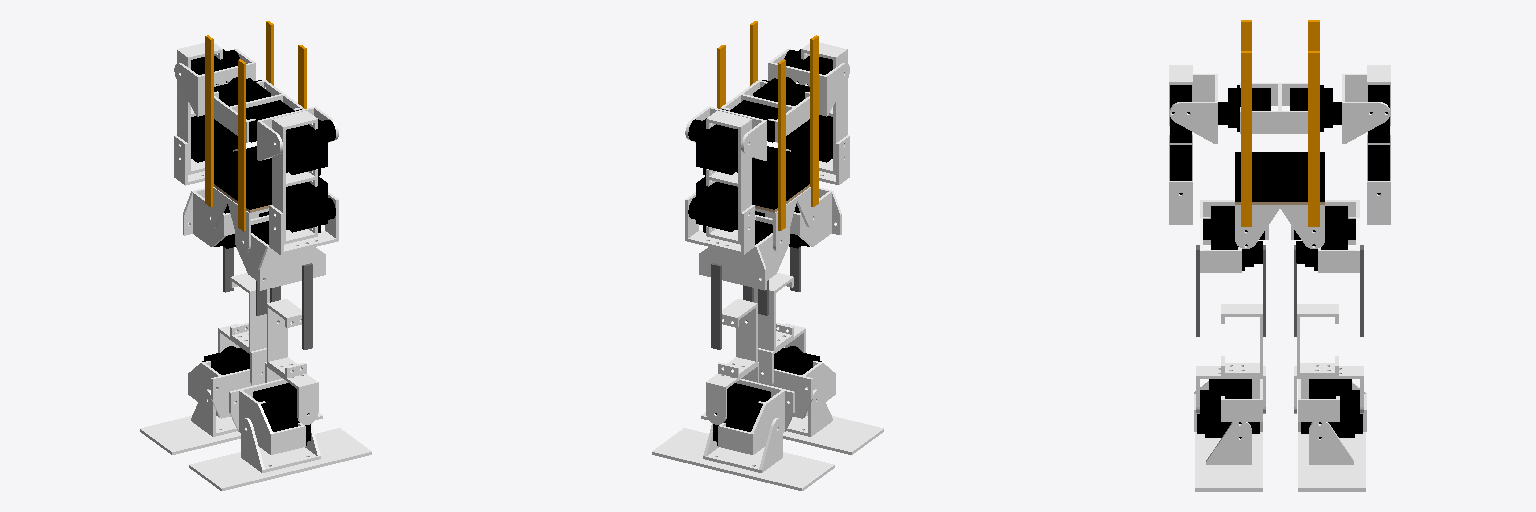
--- Facts derived from the render (not from the file) ---
3 views of the same robot in one strip: view 1: azimuth 30°, elevation 25°; view 2: azimuth 150°, elevation 25°; view 3: azimuth 270°, elevation 25° (orthographic).
Robot: b3w_walker — 24 links, 23 joints (22 revolute, 1 fixed); root link base_link; default pose: all joints at 0.
Visible links, largest first — view 1: body, r_upper_arm, r_foot, r_ankle, l_upper_arm, r_thigh, l_foot, l_ankle, r_knee, l_thigh, l_shoulder, l_knee (+7 smaller); view 2: body, l_upper_arm, l_foot, l_ankle, r_upper_arm, l_thigh, r_foot, r_ankle, l_knee, r_thigh, r_shoulder, r_knee (+7 smaller); view 3: body, l_foot, r_foot, r_ankle, l_ankle, l_thigh, r_thigh, r_upper_arm, l_upper_arm, r_shoulder, l_shoulder, r_knee (+7 smaller).
Link boxes in pixels (x1,y1,x2,y2): body: (205,21,306,251); r_upper_arm: (272,111,335,244); r_foot: (189,418,371,490); r_ankle: (229,379,310,454); l_upper_arm: (177,43,239,174); r_thigh: (235,215,325,290); l_foot: (140,389,322,454); l_ankle: (188,346,261,418); r_knee: (267,299,306,377); l_thigh: (183,188,268,248); l_shoulder: (174,49,255,116); l_knee: (230,273,269,351); body: (717,21,818,251); l_upper_arm: (688,110,751,244); l_foot: (652,418,834,490); l_ankle: (713,379,794,454); r_upper_arm: (784,42,847,174); l_thigh: (699,215,789,290); r_foot: (701,389,883,454); r_ankle: (762,346,835,418); l_knee: (718,299,757,377); r_thigh: (755,187,841,248); r_shoulder: (768,49,849,116); r_knee: (754,273,793,350); body: (1218,20,1341,248); l_foot: (1298,422,1365,491); r_foot: (1195,422,1262,491); r_ankle: (1194,379,1262,438); l_ankle: (1298,379,1366,438); l_thigh: (1291,200,1359,272); r_thigh: (1200,200,1268,272); r_upper_arm: (1169,65,1192,194); l_upper_arm: (1367,65,1390,194); r_shoulder: (1170,74,1217,143); l_shoulder: (1342,74,1389,143); r_knee: (1221,304,1262,375).
Bounding box of the posed robot: 0.16 × 0.196 × 0.4064 m (x, y, z).
Meshes: 36 distinct files referenced, 41 mesh visuals loaded (35 binary STL); not drawn: 2 (reference not matched to a file when rendering).

The robot description file, URDF, robot "b3w_walker":
<?xml version="1.0"?>
<robot name="b3w_walker">
  <gazebo>
    <plugin name="gazebo_ros_control" filename="libgazebo_ros_control.so">
      <robotNamespace>/b3w_walker</robotNamespace>
    </plugin>
    <static>false</static>
  </gazebo>

  <!-- <body/> -->
  <link name="base_link">
  </link>
  <joint name="base_link_fixed" type="fixed">
    <origin xyz="0 0 0" rpy="0 0 0"/>
    <parent link="base_link"/>
    <child link="body"/>
  </joint>
     
  <link name="body">
    <visual name="west">
      <origin xyz="33.5e-3 -54.5e-3 -43e-3" rpy="0 0 1.5707"/>
      <geometry>
      	<mesh filename="package://b3w_walker/models/b3w_walker/stl/body-west-1.STL" scale="1e-3 1e-3 1e-3"/>
      </geometry>
      <material name="brown">
	<color rgba="0.8235 0.7059 0.549 1"/>
      </material>
    </visual>
    <visual name="r_foot_joint">
      <origin xyz="33.5e-3 -54.5e-3 -43e-3" rpy="0 0 1.5707"/>
      <geometry>
      	<mesh filename="package://b3w_walker/models/b3w_walker/stl/body-r_foot_joint-1.STL" scale="1e-3 1e-3 1e-3"/>
      </geometry>
      <material name="white">
	<color rgba="1 1 1 1"/>
      </material>
    </visual>
    <visual name="l_foot_joint">
      <origin xyz="33.5e-3 -54.5e-3 -43e-3" rpy="0 0 1.5707"/>
      <geometry>
      	<mesh filename="package://b3w_walker/models/b3w_walker/stl/body-l_foot_joint-1.STL" scale="1e-3 1e-3 1e-3"/>
      </geometry>
      <material name="white">
	<color rgba="1 1 1 1"/>
      </material>
    </visual>
    <visual name="chest">
      <origin xyz="33.5e-3 -54.5e-3 -43e-3" rpy="0 0 1.5707"/>
      <geometry>
      	<mesh filename="package://b3w_walker/models/b3w_walker/stl/body-chest-1.STL" scale="1e-3 1e-3 1e-3"/>
      </geometry>
      <material name="white">
	<color rgba="1 1 1 1"/>
      </material>
    </visual>
    <visual name="type2-1">
      <origin xyz="33.5e-3 -54.5e-3 -43e-3" rpy="0 0 1.5707"/>
      <geometry>
      	<mesh filename="package://b3w_walker/models/b3w_walker/stl/body-type2-1.STL" scale="1e-3 1e-3 1e-3"/>
      </geometry>
      <material name="black">
	<color rgba="0 0 0 1"/>
      </material>
    </visual>
    <visual name="type2-2">
      <origin xyz="33.5e-3 -54.5e-3 -43e-3" rpy="0 0 1.5707"/>
      <geometry>
      	<mesh filename="package://b3w_walker/models/b3w_walker/stl/body-type2-2.STL" scale="1e-3 1e-3 1e-3"/>
      </geometry>
      <material name="black">
	<color rgba="0 0 0 1"/>
      </material>
    </visual>
    <visual name="pi">
      <origin xyz="33.5e-3 -54.5e-3 -43e-3" rpy="0 0 1.5707"/>
      <geometry>
      	<mesh filename="package://b3w_walker/models/b3w_walker/stl/body-pi-1.STL" scale="1e-3 1e-3 1e-3"/>
      </geometry>
      <material name="black">
	<color rgba="0 0 0 1"/>
      </material>
    </visual>
    <visual name="pole-1">
      <origin xyz="33.5e-3 -54.5e-3 -43e-3" rpy="0 0 1.5707"/>
      <geometry>
      	<mesh filename="package://b3w_walker/models/b3w_walker/stl/body-pole-1.STL" scale="1e-3 1e-3 1e-3"/>
      </geometry>
      <material name="orange">
	<color rgba="1 0.647 0 1"/>
      </material>
    </visual>
    <visual name="pole-2">
      <origin xyz="33.5e-3 -54.5e-3 -43e-3" rpy="0 0 1.5707"/>
      <geometry>
      	<mesh filename="package://b3w_walker/models/b3w_walker/stl/body-pole-2.STL" scale="1e-3 1e-3 1e-3"/>
      </geometry>
      <material name="orange">
	<color rgba="1 0.647 0 1"/>
      </material>
    </visual>
    <visual name="pole-3">
      <origin xyz="33.5e-3 -54.5e-3 -43e-3" rpy="0 0 1.5707"/>
      <geometry>
      	<mesh filename="package://b3w_walker/models/b3w_walker/stl/body-pole-3.STL" scale="1e-3 1e-3 1e-3"/>
      </geometry>
      <material name="orange">
	<color rgba="1 0.647 0 1"/>
      </material>
    </visual>
    <visual name="pole-4">
      <origin xyz="33.5e-3 -54.5e-3 -43e-3" rpy="0 0 1.5707"/>
      <geometry>

      	<mesh filename="package://b3w_walker/models/b3w_walker/stl/body-pole-4.STL" scale="1e-3 1e-3 1e-3"/>
      </geometry>
      <material name="orange">
	<color rgba="1 0.647 0 1"/>
      </material>
    </visual>
    <collision name="collision">
      <origin xyz="0 0 72e-3" rpy="0 0 0"/>
      <geometry>
	<box size="68e-3 80e-3 150e-3"/>
      </geometry>
    </collision>
    <inertial>
      <origin xyz="0.23e-3 0 38.29e-3" rpy="0 0 1.5707"/>
      <mass value="249.61e-3"/>
      <inertia ixx="469536.22e-9" iyy="555552.88e-9" izz="269099.12e-9" ixy="0" iyz="-2538.43e-9" ixz="0"/>
    </inertial>
  </link>
  <gazebo reference="body">
      <selfCollide>true</selfCollide>
  </gazebo>


  
  <!-- <right arm/> -->
  <joint name="r_shoulder_pitch" type="revolute">
    <origin xyz="10.5e-3 -54.5e-3 80e-3" rpy="0 0 0"/>
    <parent link="body"/>
    <child link="r_shoulder"/>
    <axis xyz="0 1 0"/>
    <limit effort="0.4" velocity="1.5707" lower="-1.5707" upper="1.5707" />
  </joint>
  <transmission name="tran_r_shoulder_pitch">
    <type>transmission_interface/SimpleTransmission</type>
    <joint name="r_shoulder_pitch">
      <hardwareInterface>hardware_interface/PositionJointInterface</hardwareInterface>
    </joint>
    <actuator name="motor_r_shoulder_pitch">
      <hardwareInterface>hardware_interface/PositionJointInterface</hardwareInterface>
      <mechanicalReduction>1</mechanicalReduction>
    </actuator>
  </transmission>

 <link name="r_shoulder">
    <visual name="r_shoulder">
      <origin xyz="21e-3 -43e-3 -20e-3" rpy="0 -1.5707 0"/>
      <geometry>
      	<mesh filename="package://b3w_walker/models/b3w_walker/stl/r_shoulder.STL" scale="1e-3 1e-3 1e-3"/>
      </geometry>
      <material name="white">
	<color rgba="1 1 1 1"/>
      </material>
    </visual>
    <collision name="collision">
      <origin xyz="-10e-3 -21.5e-3 0" rpy="0 0 0"/>
      <geometry>
	<box size="62e-3 43e-3 40e-3"/>
      </geometry>
    </collision>
    <inertial>
      <origin xyz="-10.06e-3 -9.9e-3 2.3e-3" rpy="0 -1.5707 0"/>
      <mass value="13.98e-3"/>
      <inertia ixx="10014.76e-9" iyy="9800.30e-9" izz="3544.51e-9" ixy="-523.71e-9" iyz="-18.93e-9" ixz="6.31e-9"/>
    </inertial>
  </link>
  <gazebo reference="r_shoulder">
      <selfCollide>true</selfCollide>
  </gazebo>

  <joint name="r_shoulder_roll" type="revolute">
    <origin xyz="18e-3 -33e-3 10e-3" rpy="0 0 0"/>
    <parent link="r_shoulder"/>
    <child link="r_upper_arm"/>
    <axis xyz="1 0 0"/>
    <limit effort="0.4" velocity="1.5707" lower="-1.5707" upper="0.3927" />
  </joint>
  <transmission name="tran_r_shoulder_roll">
    <type>transmission_interface/SimpleTransmission</type>
    <joint name="r_shoulder_roll">
      <hardwareInterface>hardware_interface/PositionJointInterface</hardwareInterface>
    </joint>
    <actuator name="motor_r_shoulder_roll">
      <hardwareInterface>hardware_interface/PositionJointInterface</hardwareInterface>
      <mechanicalReduction>1</mechanicalReduction>
    </actuator>
  </transmission>

  <link name="r_upper_arm">
    <visual name="upper_arm">
      <origin xyz="0 -10.5e-3 20e-3" rpy="0 1.5707 1.5707"/>
      <geometry>
      	<mesh filename="package://b3w_walker/models/b3w_walker/stl/arm-upper_arm-1.STL" scale="1e-3 1e-3 1e-3"/>
      </geometry>
      <material name="white">
	<color rgba="1 1 1 1"/>
      </material>
    </visual>
    <visual name="type2-1">
      <origin xyz="0 -10.5e-3 20e-3" rpy="0 1.5707 1.5707"/>
      <geometry>
      	<mesh filename="package://b3w_walker/models/b3w_walker/stl/arm-type2-1.STL" scale="1e-3 1e-3 1e-3"/>
      </geometry>
      <material name="black">
	<color rgba="0 0 0 1"/>
      </material>
    </visual>
    <visual name="type2-2">
      <origin xyz="0 -10.5e-3 20e-3" rpy="0 1.5707 1.5707"/>
      <geometry>
      	<mesh filename="package://b3w_walker/models/b3w_walker/stl/arm-type2-2.STL" scale="1e-3 1e-3 1e-3"/>
      </geometry>
      <material name="black">
	<color rgba="0 0 0 1"/>
      </material>
    </visual>
    <collision name="collision">
      <origin xyz="-37.5e-3 0 -39.31e-3" rpy="0 0 0"/>
      <geometry>
	<box size="37e-3 21e-3 119e-3"/>
      </geometry>
    </collision>
    <inertial>
      <origin xyz="-28.23e-3 0 -39.5e-3" rpy="0 1.5707 1.5707"/>
      <mass value="91.78e-3"/>
      <inertia ixx="21303.42e-9" iyy="107781.77e-9" izz="122945.47e-9" ixy="0" iyz="0" ixz="0"/>
    </inertial>
  </link>
  <gazebo reference="r_upper_arm">
      <selfCollide>true</selfCollide>
  </gazebo>

  <joint name="r_elbow_roll" type="revolute">
    <origin xyz="0 0 -79e-3" rpy="0 0 0"/>
    <parent link="r_upper_arm"/>
    <child link="r_lower_arm"/>
    <axis xyz="-1 0 0"/>
    <limit effort="0.4" velocity="1.5707" lower="-1.5707" upper="1.5707" />
  </joint>
  <transmission name="tran_r_elbow_roll">
    <type>transmission_interface/SimpleTransmission</type>
    <joint name="r_elbow_roll">
      <hardwareInterface>hardware_interface/PositionJointInterface</hardwareInterface>
    </joint>
    <actuator name="motor_r_elbow_roll">
      <hardwareInterface>hardware_interface/PositionJointInterface</hardwareInterface>
      <mechanicalReduction>1</mechanicalReduction>
    </actuator>
  </transmission>

  <link name="r_lower_arm">
    <visual name="box">
      <origin xyz="3e-3 -10.5e-3 -30e-3" rpy="1.5707 0 3.1415"/>
      <geometry>
	<mesh filename="package://b3w_walker/models/b3w_walker/stl/hinge.STL" scale="1e-3 1e-3 1e-3"/>
      </geometry>
      <material name="white">
	<color rgba="1 1 1 1"/>
      </material>
    </visual>
    <collision name="collision">
      <origin xyz="-28e-3 0 -9e-3" rpy="0 0 0"/>
      <geometry>
	<box size="62e-3 21e-3 42e-3"/>
      </geometry>
    </collision>
    <inertial>
      <origin xyz="-27.91e-3 0 -16.74e-3" rpy="1.5707 0 3.1415"/>
      <mass value="8.75e-3"/>
      <inertia ixx="1894.18e-9" iyy="5884.31e-9" izz="7125.94e-9" ixy="-13.72e-9" iyz="0" ixz="0"/>
    </inertial>
  </link>
  <gazebo reference="r_lower_arm">
      <selfCollide>true</selfCollide>
  </gazebo>

  <joint name="r_arm_fixed" type="revolute">
    <origin xyz="-28e-3 0 -30e-3" rpy="0 0 0"/>
    <parent link="r_lower_arm"/>
    <child link="r_arm_endcoords"/>
    <axis xyz="0 1 0"/>
    <limit effort="0" velocity="0" lower="0" upper="0.01" />
  </joint>
 
  <link name="r_arm_endcoords">
  </link>


  


  <!-- <left arm/> -->
  <joint name="l_shoulder_pitch" type="revolute">
    <origin xyz="10.5e-3 54.5e-3 80e-3" rpy="0 0 0"/>
    <parent link="body"/>
    <child link="l_shoulder"/>
    <axis xyz="0 -1 0"/>
    <limit effort="0.4" velocity="1.5707" lower="-1.5707" upper="1.5707" />
  </joint>
  <transmission name="tran_l_shoulder_pitch">
    <type>transmission_interface/SimpleTransmission</type>
    <joint name="l_shoulder_pitch">
      <hardwareInterface>hardware_interface/PositionJointInterface</hardwareInterface>
    </joint>
    <actuator name="motor_l_shoulder_pitch">
      <hardwareInterface>hardware_interface/PositionJointInterface</hardwareInterface>
      <mechanicalReduction>1</mechanicalReduction>
    </actuator>
  </transmission>

  <link name="l_shoulder">
    <visual name="l_shoulder">
      <origin xyz="21e-3 0 -20e-3" rpy="0 -1.5707 0"/>
      <geometry>
      	<mesh filename="package://b3w_walker/models/b3w_walker/stl/l_shoulder.STL" scale="1e-3 1e-3 1e-3"/>
      </geometry>
      <material name="white">
	<color rgba="1 1 1 1"/>
      </material>
    </visual>
    <collision name="collision">
      <origin xyz="-10e-3 21.5e-3 0" rpy="0 0 0"/>
      <geometry>
	<box size="62e-3 43e-3 40e-3"/>
      </geometry>
    </collision>
    <inertial>
      <origin xyz="-10.06e-3 9.9e-3 2.3e-3" rpy="0 -1.5707 0"/>
      <mass value="13.98e-3"/>
      <inertia ixx="10014.76e-9" iyy="9800.30e-9" izz="3544.51e-9" ixy="523.71e-9" iyz="18.93e-9" ixz="6.31e-9"/>
    </inertial>
  </link>
  <gazebo reference="l_shoulder">
      <selfCollide>true</selfCollide>
  </gazebo>

  <joint name="l_shoulder_roll" type="revolute">
    <origin xyz="18e-3 33e-3 10e-3" rpy="0 0 0"/>
    <parent link="l_shoulder"/>
    <child link="l_upper_arm"/>
    <axis xyz="1 0 0"/>
    <limit effort="0.4" velocity="1.5707" lower="-0.3927" upper="1.5707" />
  </joint>
  <transmission name="tran_l_shoulder_roll">
    <type>transmission_interface/SimpleTransmission</type>
    <joint name="l_shoulder_roll">
      <hardwareInterface>hardware_interface/PositionJointInterface</hardwareInterface>
    </joint>
    <actuator name="motor_l_shoulder_roll">
      <hardwareInterface>hardware_interface/PositionJointInterface</hardwareInterface>
      <mechanicalReduction>1</mechanicalReduction>
    </actuator>
  </transmission>

  <link name="l_upper_arm">
    <visual name="upper_arm">
      <origin xyz="0 -10.5e-3 20e-3" rpy="0 1.5707 1.5707"/>
      <geometry>
      	<mesh filename="package://b3w_walker/models/b3w_walker/stl/arm-upper_arm-1.STL" scale="1e-3 1e-3 1e-3"/>
      </geometry>
      <material name="white">
	<color rgba="1 1 1 1"/>
      </material>
    </visual>
    <visual name="type2-1">
      <origin xyz="0 -10.5e-3 20e-3" rpy="0 1.5707 1.5707"/>
      <geometry>
      	<mesh filename="package://b3w_walker/models/b3w_walker/stl/arm-type2-1.STL" scale="1e-3 1e-3 1e-3"/>
      </geometry>
      <material name="black">
	<color rgba="0 0 0 1"/>
      </material>
    </visual>
    <visual name="type2-2">
      <origin xyz="0 -10.5e-3 20e-3" rpy="0 1.5707 1.5707"/>
      <geometry>
      	<mesh filename="package://b3w_walker/models/b3w_walker/stl/arm-type2-2.STL" scale="1e-3 1e-3 1e-3"/>
      </geometry>
      <material name="black">
	<color rgba="0 0 0 1"/>
      </material>
    </visual>
    <collision name="collision">
      <origin xyz="-37.5e-3 0 -39.31e-3" rpy="0 0 0"/>
      <geometry>
	<box size="37e-3 21e-3 119e-3"/>
      </geometry>
    </collision>
    <inertial>
      <origin xyz="-28.23e-3 0 -39.5e-3" rpy="0 1.5707 1.5707"/>
      <mass value="91.78e-3"/>
      <inertia ixx="21303.42e-9" iyy="107781.77e-9" izz="122945.47e-9" ixy="0" iyz="0" ixz="0"/>
    </inertial>
  </link>
  <gazebo reference="l_upper_arm">
      <selfCollide>true</selfCollide>
  </gazebo>
  
  <joint name="l_elbow_roll" type="revolute">
    <origin xyz="0 0 -79e-3" rpy="0 0 0"/>
    <parent link="l_upper_arm"/>
    <child link="l_lower_arm"/>
    <axis xyz="-1 0 0"/>
    <limit effort="0.4" velocity="1.5707" lower="-1.5707" upper="1.5707" />
  </joint>
  <transmission name="tran_l_elbow_roll">
    <type>transmission_interface/SimpleTransmission</type>
    <joint name="l_elbow_roll">
      <hardwareInterface>hardware_interface/PositionJointInterface</hardwareInterface>
    </joint>
    <actuator name="motor_l_elbow_roll">
      <hardwareInterface>hardware_interface/PositionJointInterface</hardwareInterface>
      <mechanicalReduction>1</mechanicalReduction>
    </actuator>
  </transmission>

  <link name="l_lower_arm">
    <visual name="box">
      <origin xyz="3e-3 -10.5e-3 -30e-3" rpy="1.5707 0 3.1415"/>
      <geometry>
	<mesh filename="package://b3w_walker/models/b3w_walker/stl/hinge.STL" scale="1e-3 1e-3 1e-3"/>
      </geometry>
      <material name="white">
	<color rgba="1 1 1 1"/>
      </material>
    </visual>
    <collision name="collision">
      <origin xyz="-28e-3 0 -9e-3" rpy="0 0 0"/>
      <geometry>
	<box size="62e-3 21e-3 42e-3"/>
      </geometry>
    </collision>
    <inertial>
      <origin xyz="-27.91e-3 0 -16.74e-3" rpy="1.5707 0 3.1415"/>
      <mass value="8.75e-3"/>
      <inertia ixx="1894.18e-9" iyy="5884.31e-9" izz="7125.94e-9" ixy="-13.72e-9" iyz="0" ixz="0"/>
    </inertial>
  </link>
  <gazebo reference="l_lower_arm">
      <selfCollide>true</selfCollide>
  </gazebo>

  <joint name="l_arm_fixed" type="revolute">
    <origin xyz="-28e-3 0 -30e-3" rpy="0 0 0"/>
    <parent link="l_lower_arm"/>
    <child link="l_arm_endcoords"/>
    <axis xyz="0 1 0"/>
    <limit effort="0" velocity="0" lower="0" upper="0.01" />
  </joint>
 
  <link name="l_arm_endcoords">
  </link>
  






  <!-- <right leg/> -->
  <joint name="r_footjoint_roll" type="revolute">
    <origin xyz="28e-3 -30e-3 -33e-3" rpy="0 0 0"/>
    <parent link="base_link"/>
    <child link="r_thigh"/>
    <axis xyz="1 0 0"/>
    <limit effort="0.4" velocity="1.5707" lower="-0.7854" upper="0.7854" />
  </joint>
  <transmission name="tran_r_footjoint_roll">
    <type>transmission_interface/SimpleTransmission</type>
    <joint name="r_footjoint_roll">
      <hardwareInterface>hardware_interface/PositionJointInterface</hardwareInterface>
    </joint>
    <actuator name="motor_r_footjoint_roll">
      <hardwareInterface>hardware_interface/PositionJointInterface</hardwareInterface>
      <mechanicalReduction>1</mechanicalReduction>
    </actuator>
  </transmission>

  <link name="r_thigh">
    <visual name="r_thigh">
      <origin xyz="5e-3 20e-3 10.5e-3" rpy="0 3.1415 1.5707"/>
      <geometry>
      	<mesh filename="package://b3w_walker/models/b3w_walker/stl/r_thigh.STL" scale="1e-3 1e-3 1e-3"/>
      </geometry>
      <material name="white">
  	<color rgba="1 1 1 1"/>
      </material>
    </visual>
    <visual name="type2-1">
      <origin xyz="5e-3 20e-3 10.5e-3" rpy="0 3.1415 1.5707"/>
      <geometry>
      	<mesh filename="package://b3w_walker/models/b3w_walker/stl/r_thigh-type2-1.STL" scale="1e-3 1e-3 1e-3"/>
      </geometry>
      <material name="black">
  	<color rgba="0 0 0 1"/>
      </material>
    </visual>
    <visual name="type2-2">
      <origin xyz="5e-3 20e-3 10.5e-3" rpy="0 3.1415 1.5707"/>
      <geometry>
      	<mesh filename="package://b3w_walker/models/b3w_walker/stl/r_thigh-type2-2.STL" scale="1e-3 1e-3 1e-3"/>
      </geometry>
      <material name="black">
  	<color rgba="0 0 0 1"/>
      </material>
    </visual>
    <collision name="collision">
      <origin xyz="-30e-3 -10.5e-3 -10.5e-3" rpy="0 0 0"/>
      <geometry>
  	<box size="70e-3 61e-3 42e-3"/>
      </geometry>
    </collision>
    <inertial>
      <origin xyz="-27.04e-3 -11.99e-3 -10.54e-3" rpy="0 3.1415 1.5707"/>
      <mass value="95.76e-3"/>
      <inertia ixx="35785.97e-9" iyy="35507.30e-9" izz="44004.92e-9" ixy="1232.13e-9" iyz="-1392.7e-9" ixz="1621.84e-9"/>
    </inertial>
  </link>
  <gazebo reference="r_thigh">
      <selfCollide>true</selfCollide>
  </gazebo>

  <joint name="r_footjoint_pitch" type="revolute">
    <origin xyz="-15e-3 15e-3 -21e-3" rpy="0 0 0"/>
    <parent link="r_thigh"/>
    <child link="r_uf_bone"/>
    <axis xyz="0 -1 0"/>
    <limit effort="0.4" velocity="1.5707" lower="-1.5707" upper="1.5707" />
  </joint>
  <transmission name="tran_r_footjoint_pitch">
    <type>transmission_interface/SimpleTransmission</type>
    <joint name="r_footjoint_pitch">
      <hardwareInterface>hardware_interface/PositionJointInterface</hardwareInterface>
    </joint>
    <actuator name="motor_r_footjoint_pitch">
      <hardwareInterface>hardware_interface/PositionJointInterface</hardwareInterface>
      <mechanicalReduction>1</mechanicalReduction>
    </actuator>
  </transmission>

  <link name="r_uf_bone">
    <visual name="l_bone">
      <origin xyz="0 1.5e-3 -37.5e-3" rpy="0 0 0"/>
      <geometry>
      	<box size="10e-3 3e-3 85e-3"/>
      </geometry>
      <material name="grey">
  	<color rgba="0.5 0.5 0.5 1"/>
      </material>
    </visual>
    <visual name="r_bone">
      <origin xyz="0 -57.5e-3 -37.5e-3" rpy="0 0 0"/>
      <geometry>
      	<box size="10e-3 3e-3 85e-3"/>
      </geometry>
      <material name="grey">
  	<color rgba="0.5 0.5 0.5 1"/>
      </material>
    </visual>
    <collision name="collision">
      <origin xyz="0 -28e-3 -37.5e-3" rpy="0 0 0"/>
      <geometry>
      	<box size="10e-3 62e-3 85e-3"/>
      </geometry>
    </collision>
    <inertial>
      <origin xyz="0 -28e-3 -37.5e-3" rpy="0 0 0"/>
      <mass value="5.2e-3"/>
      <inertia ixx="7662.98e-9" iyy="3125.39e-9" izz="4574.29e-9" ixy="0" iyz="0" ixz="0"/>
    </inertial>
  </link>
  <gazebo reference="r_uf_bone">
      <selfCollide>true</selfCollide>
  </gazebo>
  
  <joint name="r_knee_pitch" type="revolute">
    <origin xyz="0 -56e-3 -75e-3" rpy="0 0 0"/>
    <parent link="r_uf_bone"/>
    <child link="r_knee"/>
    <axis xyz="0 -1 0"/>
    <limit effort="0.4" velocity="1.5707" lower="-1.5707" upper="1.5707" />
  </joint>
  <transmission name="tran_r_knee_pitch">
    <type>transmission_interface/SimpleTransmission</type>
    <joint name="r_knee_pitch">
      <hardwareInterface>hardware_interface/PositionJointInterface</hardwareInterface>
    </joint>
    <actuator name="motor_r_knee_pitch">
      <hardwareInterface>hardware_interface/PositionJointInterface</hardwareInterface>
      <mechanicalReduction>1</mechanicalReduction>
    </actuator>
  </transmission>

  <link name="r_knee">
    <visual name="r_knee">
      <origin xyz="10.5e-3 56e-3 20e-3" rpy="0 1.5707 3.1415"/>
      <geometry>
      	<mesh filename="package://b3w_walker/models/b3w_walker/stl/servo-servo-1.STL" scale="1e-3 1e-3 1e-3"/>
      </geometry>
      <material name="white">
  	<color rgba="1 1 1 1"/>
      </material>
    </visual>
    <visual name="type2">
      <origin xyz="10.5e-3 56e-3 20e-3" rpy="0 1.5707 3.1415"/>
      <geometry>
      	<mesh filename="package://b3w_walker/models/b3w_walker/stl/servo-type2-1.STL" scale="1e-3 1e-3 1e-3"/>
      </geometry>
      <material name="black">
  	<color rgba="0 0 0 1"/>
      </material>
    </visual>
    <collision name="collision">
      <origin xyz="0 28e-3 -10.5e-3" rpy="0 0 0"/>
      <geometry>
  	<box size="21e-3 56e-3 61e-3"/>
      </geometry>
    </collision>
    <inertial>
      <origin xyz="0 28.25e-3 -9.82e-3" rpy="0 1.5707 3.1415"/>
      <mass value="46.9e-3"/>
      <inertia ixx="10909.33e-9" iyy="12516.16e-9" izz="20276.66e-9" ixy="-702.81e-9" iyz="0" ixz="0"/>
    </inertial>
  </link>
  <gazebo reference="r_knee">
      <selfCollide>true</selfCollide>
  </gazebo>

  <joint name="r_knee_fixed" type="revolute">
    <origin xyz="0 33e-3 -41e-3" rpy="0 0 0"/>
    <parent link="r_knee"/>
    <child link="r_knee_hinge"/>
    <axis xyz="0 1 0"/>
    <limit effort="0" velocity="0" lower="0" upper="0.01" />
  </joint>

  <link name="r_knee_hinge">
    <visual name="hinge">
      <origin xyz="10.5e-3 -36e-3 0" rpy="-1.5707 0 1.5707"/>
      <geometry>
	<mesh filename="package://b3w_walker/models/b3w_walker/stl/hinge_c.STL" scale="1e-3 1e-3 1e-3"/>
      </geometry>
      <material name="white">
  	<color rgba="1 1 1 1"/>
      </material>
    </visual>
    <collision name="collision">
      <origin xyz="0 -5e-3 -20.25e-3" rpy="0 0 0"/>
      <geometry>
      	<box size="21e-3 62e-3 40.5e-3"/>
      </geometry>
    </collision>
    <inertial>
      <origin xyz="0 -5.09e-3 -11.74e-3" rpy="-1.5707 0 1.5707"/>
      <mass value="8.26e-3"/>
      <inertia ixx="1515.9e-9" iyy="5436.69e-9" izz="6354.97e-9" ixy="-14.97e-9" iyz="0" ixz="0"/>
    </inertial>
  </link>
  <gazebo reference="r_knee_hinge">
      <selfCollide>true</selfCollide>
  </gazebo>

  <joint name="r_ankle_pitch" type="revolute">
    <origin xyz="0 -33e-3 -30e-3" rpy="0 0 0"/>
    <parent link="r_knee_hinge"/>
    <child link="r_ankle"/>
    <axis xyz="0 -1 0"/>
    <limit effort="0.4" velocity="1.5707" lower="-1.5707" upper="1.5707" />
  </joint>
  <transmission name="tran_r_ankle_pitch">
    <type>transmission_interface/SimpleTransmission</type>
    <joint name="r_ankle_pitch">
      <hardwareInterface>hardware_interface/PositionJointInterface</hardwareInterface>
    </joint>
    <actuator name="motor_r_ankle_pitch">
      <hardwareInterface>hardware_interface/PositionJointInterface</hardwareInterface>
      <mechanicalReduction>1</mechanicalReduction>
    </actuator>
  </transmission>

  <link name="r_ankle">
    <visual name="r_ankle">
      <origin xyz="20e-3 -5e-3 -31.5e-3" rpy="0 0 1.5707"/>
      <geometry>
      	<mesh filename="package://b3w_walker/models/b3w_walker/stl/r_ankle.STL" scale="1e-3 1e-3 1e-3"/>
      </geometry>
      <material name="white">
  	<color rgba="1 1 1 1"/>
      </material>
    </visual>
    <visual name="type2-1">
      <origin xyz="20e-3 -5e-3 -31.5e-3" rpy="0 0 1.5707"/>
      <geometry>
      	<mesh filename="package://b3w_walker/models/b3w_walker/stl/r_ankle_type2-1.STL" scale="1e-3 1e-3 1e-3"/>
      </geometry>
      <material name="black">
  	<color rgba="0 0 0 1"/>
      </material>
    </visual>
    <visual name="type2-2">
      <origin xyz="20e-3 -5e-3 -31.5e-3" rpy="0 0 1.5707"/>
      <geometry>
      	<mesh filename="package://b3w_walker/models/b3w_walker/stl/r_ankle_type2-2.STL" scale="1e-3 1e-3 1e-3"/>
      </geometry>
      <material name="black">
  	<color rgba="0 0 0 1"/>
      </material>
    </visual>
    <collision name="collision">
      <origin xyz="-15e-3 30e-3 -10.5e-3" rpy="0 0 0"/>
      <geometry>
  	<box size="70e-3 61e-3 42e-3"/>
      </geometry>
    </collision>
    <inertial>
      <origin xyz="-12.08e-3 27.62e-3 -10.86e-3" rpy="0 0 1.5707"/>
      <mass value="96.15e-3"/>
      <inertia ixx="36875.99e-9" iyy="36382.18e-9" izz="44211.91e-9" ixy="-130.16e-9" iyz="-1342.61e-9" ixz="1097.22e-9"/>
    </inertial>
  </link>
  <gazebo reference="r_ankle">
      <selfCollide>true</selfCollide>
  </gazebo>
  
  <joint name="r_ankle_roll" type="revolute">
    <origin xyz="15e-3 36e-3 -20e-3" rpy="0 0 0"/>
    <parent link="r_ankle"/>
    <child link="r_foot"/>
    <axis xyz="-1 0 0"/>
    <limit effort="0.4" velocity="1.5707" lower="-0.3927" upper="0.3927" />
  </joint>
  <transmission name="tran_r_ankle_roll">
    <type>transmission_interface/SimpleTransmission</type>
    <joint name="r_ankle_roll">
      <hardwareInterface>hardware_interface/PositionJointInterface</hardwareInterface>
    </joint>
    <actuator name="motor_r_ankle_roll">
      <hardwareInterface>hardware_interface/PositionJointInterface</hardwareInterface>
      <mechanicalReduction>1</mechanicalReduction>
    </actuator>
  </transmission>

  <link name="r_foot">
    <visual name="r_foot">
      <origin xyz="-108e-3 -40e-3 -36e-3" rpy="0 0 0"/>
      <geometry>
      	<mesh filename="package://b3w_walker/models/b3w_walker/stl/r_bottom-r_foot-1.STL" scale="1e-3 1e-3 1e-3"/>
      </geometry>
      <material name="white">
  	<color rgba="1 1 1 1"/>
      </material>
    </visual>
    <visual name="r_foot_bottom">
      <origin xyz="-108e-3 -40e-3 -36e-3" rpy="0 0 0"/>
      <geometry>
      	<mesh filename="package://b3w_walker/models/b3w_walker/stl/r_bottom-bottom-1.STL" scale="1e-3 1e-3 1e-3"/>
      </geometry>
      <material name="white">
  	<color rgba="1 1 1 1"/>
      </material>
    </visual>
    <collision name="collision">
      <origin xyz="-28e-3 -10e-3 -33e-3" rpy="0 0 0"/>
      <geometry>
  	<box size="160e-3 60e-3 6e-3"/>
      </geometry>
    </collision>
    <inertial>
      <origin xyz="-28.02e-3 -9.26e-3 -30.82e-3" rpy="0 0 0"/>
      <mass value="43.42e-3"/>
      <inertia ixx="13643.46e-9" iyy="73903.25e-9" izz="81281.84e-9" ixy="-7.59e-9" iyz="771.74e-9" ixz="-25.56e-9"/>
    </inertial>
  </link>
  <gazebo reference="r_foot">
    <selfCollide>true</selfCollide>
    <mu1 value="1.0"/>
    <mu2 value="1.0"/>
  </gazebo>

  <joint name="r_foot_fixed" type="revolute">
    <origin xyz="-28e-3 -10e-3 -36e-3" rpy="0 0 0"/>
    <parent link="r_foot"/>
    <child link="r_foot_endcoords"/>
    <axis xyz="0 1 0"/>
    <limit effort="0" velocity="0" lower="0" upper="0.01" />
  </joint>
  <link name="r_foot_endcoords">
  </link>

  <!-- <left leg/> -->
  <joint name="l_footjoint_roll" type="revolute">
    <origin xyz="28e-3 30e-3 -33e-3" rpy="0 0 0"/>
    <parent link="base_link"/>
    <child link="l_thigh"/>
    <axis xyz="1 0 0"/>
    <limit effort="0.4" velocity="1.5707" lower="-0.7854" upper="0.7854" />
  </joint>
  <transmission name="tran_l_footjoint_roll">
    <type>transmission_interface/SimpleTransmission</type>
    <joint name="l_footjoint_roll">
      <hardwareInterface>hardware_interface/PositionJointInterface</hardwareInterface>
    </joint>
    <actuator name="motor_l_footjoint_roll">
      <hardwareInterface>hardware_interface/PositionJointInterface</hardwareInterface>
      <mechanicalReduction>1</mechanicalReduction>
    </actuator>
  </transmission>

  <link name="l_thigh">
    <visual name="l_thigh">
      <origin xyz="5e-3 41e-3 10.5e-3" rpy="0 3.1415 1.5707"/>
      <geometry>
      	<mesh filename="package://b3w_walker/models/b3w_walker/stl/l_thigh.STL" scale="1e-3 1e-3 1e-3"/>
      </geometry>
      <material name="white">
  	<color rgba="1 1 1 1"/>
      </material>
    </visual>
    <visual name="type2-3">
      <origin xyz="5e-3 41e-3 10.5e-3" rpy="0 3.1415 1.5707"/>
      <geometry>
      	<mesh filename="package://b3w_walker/models/b3w_walker/stl/l_thigh-type2-3.STL" scale="1e-3 1e-3 1e-3"/>
      </geometry>
      <material name="black">
  	<color rgba="0 0 0 1"/>
      </material>
    </visual>
    <visual name="type2-4">
      <origin xyz="5e-3 41e-3 10.5e-3" rpy="0 3.1415 1.5707"/>
      <geometry>
      	<mesh filename="package://b3w_walker/models/b3w_walker/stl/l_thigh-type2-4.STL" scale="1e-3 1e-3 1e-3"/>
      </geometry>
      <material name="black">
  	<color rgba="0 0 0 1"/>
      </material>
    </visual>
    <collision name="collision">
      <origin xyz="-30e-3 10.5e-3 -10.5e-3" rpy="0 0 0"/>
      <geometry>
  	<box size="70e-3 61e-3 42e-3"/>
      </geometry>
    </collision>
    <inertial>
      <origin xyz="-27.04e-3 11.99e-3 -10.54e-3" rpy="0 3.1415 1.5707"/>
      <mass value="95.76e-3"/>
      <inertia ixx="35785.97e-9" iyy="35507.30e-9" izz="44004.92e-9" ixy="-1232.13e-9" iyz="-1392.7e-9" ixz="-1621.84e-9"/>
    </inertial>
  </link>
  <gazebo reference="l_thigh">
      <selfCollide>true</selfCollide>
  </gazebo>

  <joint name="l_footjoint_pitch" type="revolute">
    <origin xyz="-15e-3 -15e-3 -21e-3" rpy="0 0 0"/>
    <parent link="l_thigh"/>
    <child link="l_uf_bone"/>
    <axis xyz="0 1 0"/>
    <limit effort="0.4" velocity="1.5707" lower="-1.5707" upper="1.5707" />
  </joint>
  <transmission name="tran_l_footjoint_pitch">
    <type>transmission_interface/SimpleTransmission</type>
    <joint name="l_footjoint_pitch">
      <hardwareInterface>hardware_interface/PositionJointInterface</hardwareInterface>
    </joint>
    <actuator name="motor_l_footjoint_pitch">
      <hardwareInterface>hardware_interface/PositionJointInterface</hardwareInterface>
      <mechanicalReduction>1</mechanicalReduction>
    </actuator>
  </transmission>

  <link name="l_uf_bone">
    <visual name="r_bone">
      <origin xyz="0 -1.5e-3 -37.5e-3" rpy="0 0 0"/>
      <geometry>
      	<box size="10e-3 3e-3 85e-3"/>
      </geometry>
      <material name="grey">
  	<color rgba="0.5 0.5 0.5 1"/>
      </material>
    </visual>
    <visual name="l_bone">
      <origin xyz="0 57.5e-3 -37.5e-3" rpy="0 0 0"/>
      <geometry>
      	<box size="10e-3 3e-3 85e-3"/>
      </geometry>
      <material name="grey">
  	<color rgba="0.5 0.5 0.5 1"/>
      </material>
    </visual>
    <collision name="collision">
      <origin xyz="0 28e-3 -37.5e-3" rpy="0 0 0"/>
      <geometry>
      	<box size="10e-3 62e-3 85e-3"/>
      </geometry>
    </collision>
    <inertial>
      <origin xyz="0 28e-3 -37.5e-3" rpy="0 0 0"/>
      <mass value="5.2e-3"/>
      <inertia ixx="7662.98e-9" iyy="3125.39e-9" izz="4574.29e-9" ixy="0" iyz="0" ixz="0"/>
    </inertial>
  </link>
  <gazebo reference="l_uf_bone">
      <selfCollide>true</selfCollide>
  </gazebo>

  <joint name="l_knee_pitch" type="revolute">
    <origin xyz="0 56e-3 -75e-3" rpy="0 0 0"/>
    <parent link="l_uf_bone"/>
    <child link="l_knee"/>
    <axis xyz="0 1 0"/>
    <limit effort="0.4" velocity="1.5707" lower="-1.5707" upper="1.5707" />
  </joint>
  <transmission name="tran_l_knee_pitch">
    <type>transmission_interface/SimpleTransmission</type>
    <joint name="l_knee_pitch">
      <hardwareInterface>hardware_interface/PositionJointInterface</hardwareInterface>
    </joint>
    <actuator name="motor_l_knee_pitch">
      <hardwareInterface>hardware_interface/PositionJointInterface</hardwareInterface>
      <mechanicalReduction>1</mechanicalReduction>
    </actuator>
  </transmission>

  <link name="l_knee">
    <visual name="l_knee">
      <origin xyz="-10.5e-3 -56e-3 20e-3" rpy="0 1.5707 0"/>
      <geometry>
      	<mesh filename="package://b3w_walker/models/b3w_walker/stl/servo-servo-1.STL" scale="1e-3 1e-3 1e-3"/>
      </geometry>
      <material name="white">
  	<color rgba="1 1 1 1"/>
      </material>
    </visual>
    <visual name="type2">
      <origin xyz="-10.5e-3 -56e-3 20e-3" rpy="0 1.5707 0"/>
      <geometry>
      	<mesh filename="package://b3w_walker/models/b3w_walker/stl/servo-type2-1.STL" scale="1e-3 1e-3 1e-3"/>
      </geometry>
      <material name="black">
  	<color rgba="0 0 0 1"/>
      </material>
    </visual>
    <collision name="collision">
      <origin xyz="0 -28e-3 -10.5e-3" rpy="0 0 0"/>
      <geometry>
  	<box size="21e-3 56e-3 61e-3"/>
      </geometry>
    </collision>
    <inertial>
      <origin xyz="0 -28.25e-3 -9.82e-3" rpy="0 1.5707 0"/>
      <mass value="46.9e-3"/>
      <inertia ixx="10909.33e-9" iyy="12516.16e-9" izz="20276.66e-9" ixy="-702.81e-9" iyz="0" ixz="0"/>
    </inertial>
  </link>
  <gazebo reference="l_knee">
      <selfCollide>true</selfCollide>
  </gazebo>

  <joint name="l_knee_fixed" type="revolute">
    <origin xyz="0 -33e-3 -41e-3" rpy="0 0 0"/>
    <parent link="l_knee"/>
    <child link="l_knee_hinge"/>
    <axis xyz="0 1 0"/>
    <limit effort="0" velocity="0" lower="0" upper="0.01" />
  </joint>

  <link name="l_knee_hinge">
    <visual name="hinge">
      <origin xyz="-10.5e-3 36e-3 0" rpy="-1.5707 0 -1.5707"/>
      <geometry>
	<mesh filename="package://b3w_walker/models/b3w_walker/stl/hinge_c.STL" scale="1e-3 1e-3 1e-3"/>
      </geometry>
      <material name="white">
  	<color rgba="1 1 1 1"/>
      </material>
    </visual>
    <collision name="collision">
      <origin xyz="0 5e-3 -20.25e-3" rpy="0 0 0"/>
      <geometry>
      	<box size="21e-3 62e-3 40.5e-3"/>
      </geometry>
    </collision>
    <inertial>
      <origin xyz="0 5.09e-3 -11.74e-3" rpy="-1.5707 0 -1.5707"/>
      <mass value="8.26e-3"/>
      <inertia ixx="1515.9e-9" iyy="5436.69e-9" izz="6354.97e-9" ixy="-14.97e-9" iyz="0" ixz="0"/>
    </inertial>
  </link>
  <gazebo reference="l_knee_hinge">
      <selfCollide>true</selfCollide>
  </gazebo>

  <joint name="l_ankle_pitch" type="revolute">
    <origin xyz="0 33e-3 -30e-3" rpy="0 0 0"/>
    <parent link="l_knee_hinge"/>
    <child link="l_ankle"/>
    <axis xyz="0 1 0"/>
    <limit effort="0.4" velocity="1.5707" lower="-1.5707" upper="1.5707" />
  </joint>
  <transmission name="tran_l_ankle_pitch">
    <type>transmission_interface/SimpleTransmission</type>
    <joint name="l_ankle_pitch">
      <hardwareInterface>hardware_interface/PositionJointInterface</hardwareInterface>
    </joint>
    <actuator name="motor_l_ankle_pitch">
      <hardwareInterface>hardware_interface/PositionJointInterface</hardwareInterface>
      <mechanicalReduction>1</mechanicalReduction>
    </actuator>
  </transmission>

  <link name="l_ankle">
    <visual name="l_ankle">
      <origin xyz="20e-3 -56e-3 -31.5e-3" rpy="0 0 1.5707"/>
      <geometry>
      	<mesh filename="package://b3w_walker/models/b3w_walker/stl/l_ankle.STL" scale="1e-3 1e-3 1e-3"/>
      </geometry>
      <material name="white">
  	<color rgba="1 1 1 1"/>
      </material>
    </visual>
    <visual name="type2-4">
      <origin xyz="20e-3 -56e-3 -31.5e-3" rpy="0 0 1.5707"/>
      <geometry>
      	<mesh filename="package://b3w_walker/models/b3w_walker/stl/l_ankle_type2-4.STL" scale="1e-3 1e-3 1e-3"/>
      </geometry>
      <material name="black">
  	<color rgba="0 0 0 1"/>
      </material>
    </visual>
    <visual name="type2-5">
      <origin xyz="20e-3 -56e-3 -31.5e-3" rpy="0 0 1.5707"/>
      <geometry>
      	<mesh filename="package://b3w_walker/models/b3w_walker/stl/l_ankle_type2-5.STL" scale="1e-3 1e-3 1e-3"/>
      </geometry>
      <material name="black">
  	<color rgba="0 0 0 1"/>
      </material>
    </visual>
    <collision name="collision">
      <origin xyz="-15e-3 -30e-3 -10.5e-3" rpy="0 0 0"/>
      <geometry>
  	<box size="70e-3 61e-3 42e-3"/>
      </geometry>
    </collision>
    <inertial>
      <origin xyz="-12.08e-3 -27.62e-3 -10.86e-3" rpy="0 0 1.5707"/>
      <mass value="96.15e-3"/>
      <inertia ixx="36875.99e-9" iyy="36382.18e-9" izz="44211.91e-9" ixy="130.16e-9" iyz="-1342.61e-9" ixz="-1097.22e-9"/>
    </inertial>
  </link>
  <gazebo reference="l_ankle">
      <selfCollide>true</selfCollide>
  </gazebo>

  <joint name="l_ankle_roll" type="revolute">
    <origin xyz="15e-3 -36e-3 -20e-3" rpy="0 0 0"/>
    <parent link="l_ankle"/>
    <child link="l_foot"/>
    <axis xyz="-1 0 0"/>
    <limit effort="0.4" velocity="1.5707" lower="-0.3927" upper="0.3927" />
  </joint>
  <transmission name="tran_l_ankle_roll">
    <type>transmission_interface/SimpleTransmission</type>
    <joint name="l_ankle_roll">
      <hardwareInterface>hardware_interface/PositionJointInterface</hardwareInterface>
    </joint>
    <actuator name="motor_l_ankle_roll">
      <hardwareInterface>hardware_interface/PositionJointInterface</hardwareInterface>
      <mechanicalReduction>1</mechanicalReduction>
    </actuator>
  </transmission>

  <link name="l_foot">
    <visual name="l_foot">
      <origin xyz="-108e-3 -20e-3 -36e-3" rpy="0 0 0"/>
      <geometry>
      	<mesh filename="package://b3w_walker/models/b3w_walker/stl/l_bottom-r_foot-2.STL" scale="1e-3 1e-3 1e-3"/>
      </geometry>
      <material name="white">
  	<color rgba="1 1 1 1"/>
      </material>
    </visual>
    <visual name="l_foot_bottom">
      <origin xyz="-108e-3 -20e-3 -36e-3" rpy="0 0 0"/>
      <geometry>
      	<mesh filename="package://b3w_walker/models/b3w_walker/stl/l_bottom-bottom-2.STL" scale="1e-3 1e-3 1e-3"/>
      </geometry>
      <material name="white">
  	<color rgba="1 1 1 1"/>
      </material>
    </visual>
    <collision name="collision">
      <origin xyz="-28e-3 10e-3 -33e-3" rpy="0 0 0"/>
      <geometry>
  	<box size="160e-3 60e-3 6e-3"/>
      </geometry>
    </collision>
    <inertial>
      <origin xyz="-28.02e-3 9.26e-3 -30.82e-3" rpy="0 0 0"/>
      <mass value="43.42e-3"/>
      <inertia ixx="13643.46e-9" iyy="73903.25e-9" izz="81281.84e-9" ixy="7.59e-9" iyz="-771.74e-9" ixz="-25.56e-9"/>
    </inertial>
  </link>
  <gazebo reference="l_foot">
    <selfCollide>true</selfCollide>
    <mu1 value="1.0"/>
    <mu2 value="1.0"/>
  </gazebo>

  <joint name="l_foot_fixed" type="revolute">
    <origin xyz="-28e-3 10e-3 -36e-3" rpy="0 0 0"/>
    <parent link="l_foot"/>
    <child link="l_foot_endcoords"/>
    <axis xyz="0 1 0"/>
    <limit effort="0" velocity="0" lower="0" upper="0.01" />
  </joint>
  <link name="l_foot_endcoords">
  </link>



  
</robot>
